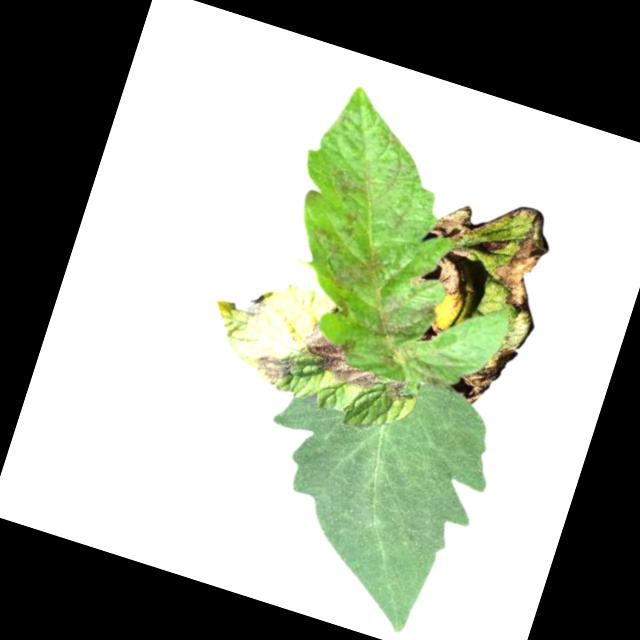Late_blight: (361, 286, 457, 382), (482, 200, 561, 313), (296, 320, 393, 394), (447, 335, 520, 414), (328, 241, 393, 305), (426, 244, 480, 307), (427, 196, 480, 252), (249, 347, 297, 387), (223, 285, 270, 325), (324, 165, 372, 203), (381, 374, 413, 408), (477, 231, 508, 258), (409, 273, 428, 290)
healthy: (222, 340, 512, 640)
